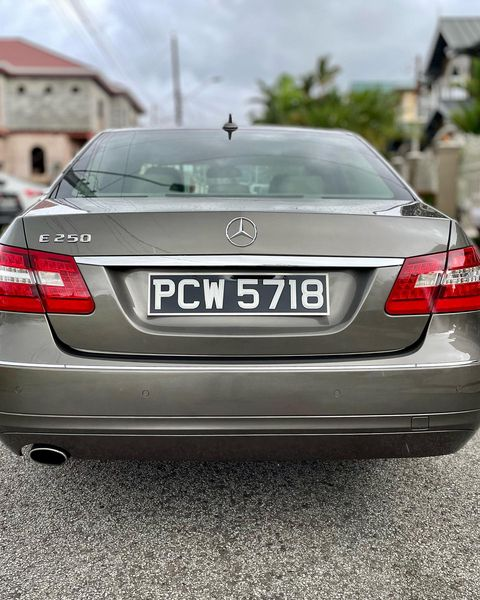License-Plate: (149, 274, 327, 313)
